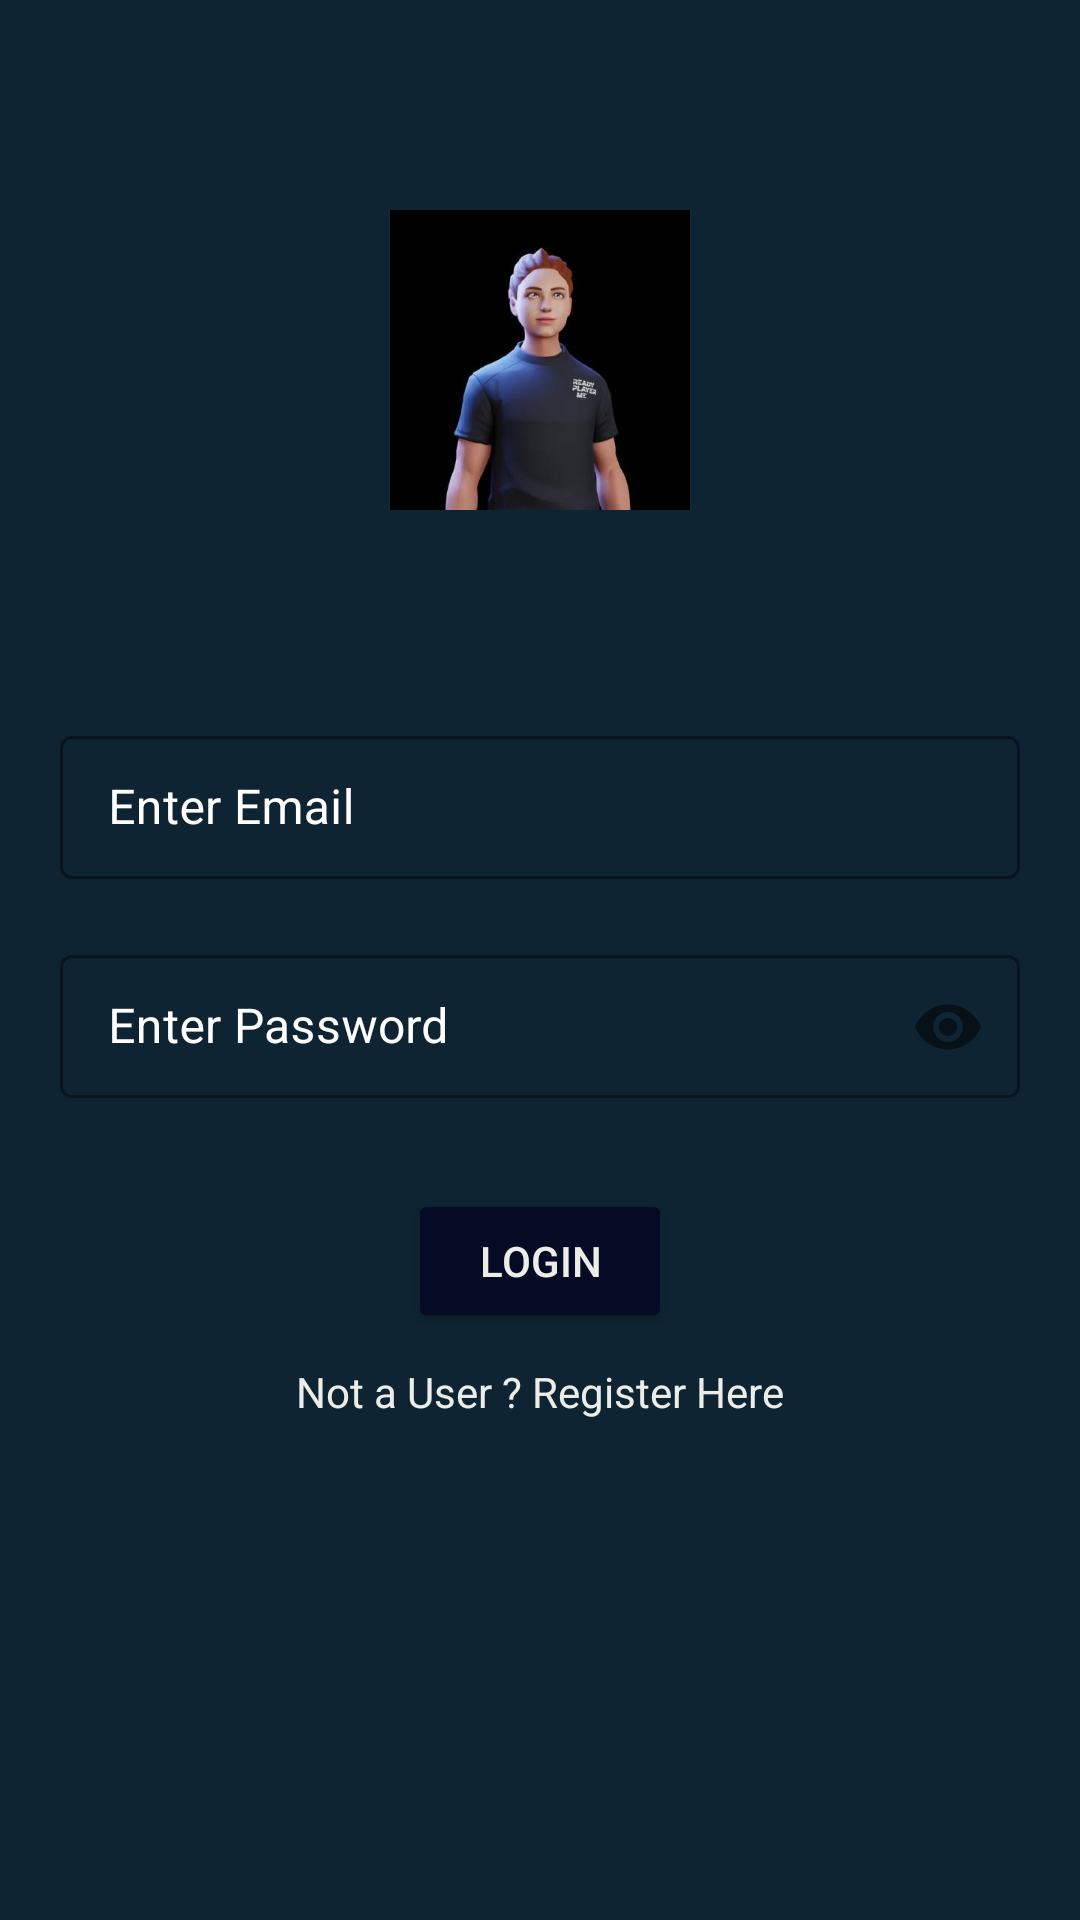

Point at icon controls on the screen. Image size 1080px x 1920px, points as (x=x, y=y).
person: (x=540, y=360)
